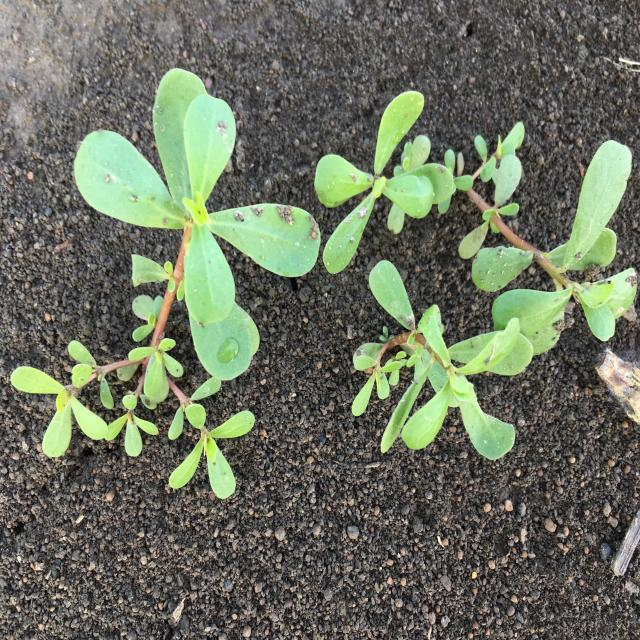Purslane: (11, 68, 321, 500), (314, 91, 637, 356), (352, 260, 534, 460)
